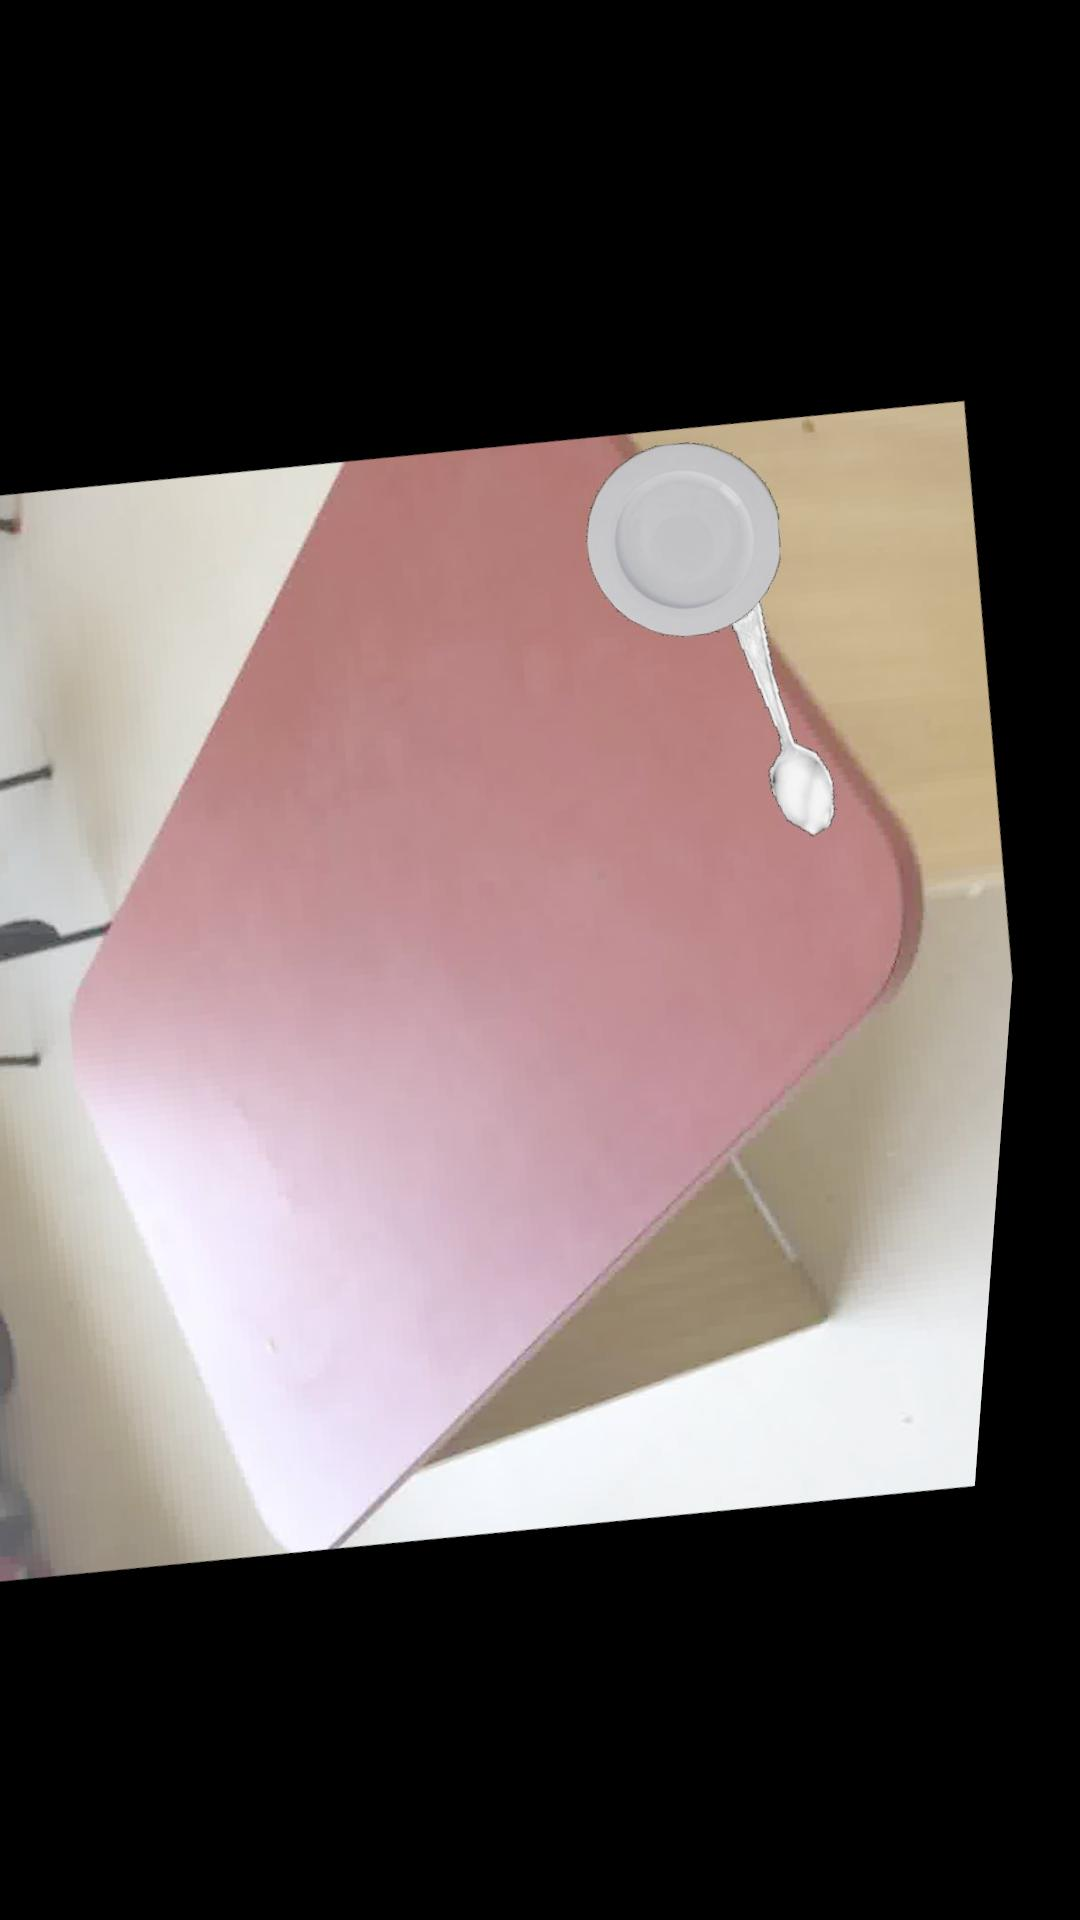plate: (591, 431, 786, 626)
spoon: (738, 589, 844, 823)
